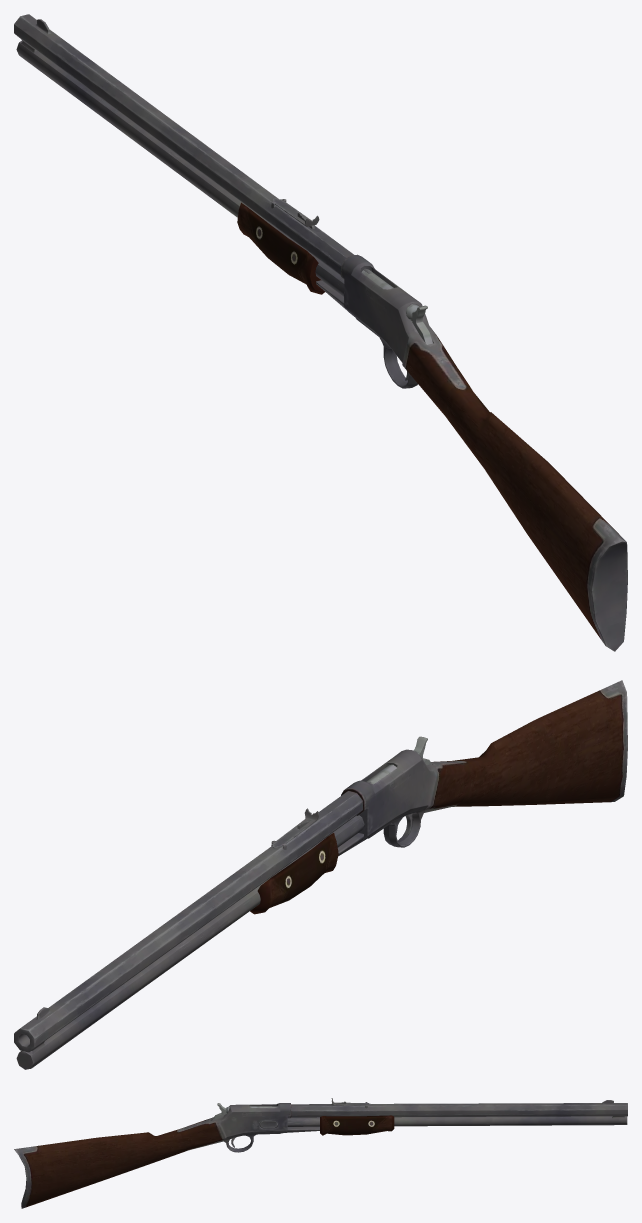
File: lightning.glb
3 views of the same model, one above another, from view 1: azimuth 30°, elevation 25°; view 2: azimuth 150°, elevation 25°; view 3: azimuth 270°, elevation 25° (orthographic). The views are drawn at different scales.
Visible parts, largest first — view 1: Object_7; view 2: Object_7; view 3: Object_7.
Part boxes in pixels (<box>): Object_7: <box>14,14,627,651</box>; Object_7: <box>14,680,627,1069</box>; Object_7: <box>14,1098,627,1208</box>.
Bounding box in the file's own units: 0.0344 × 0.1905 × 0.9677.
1 material, 1 textured.
